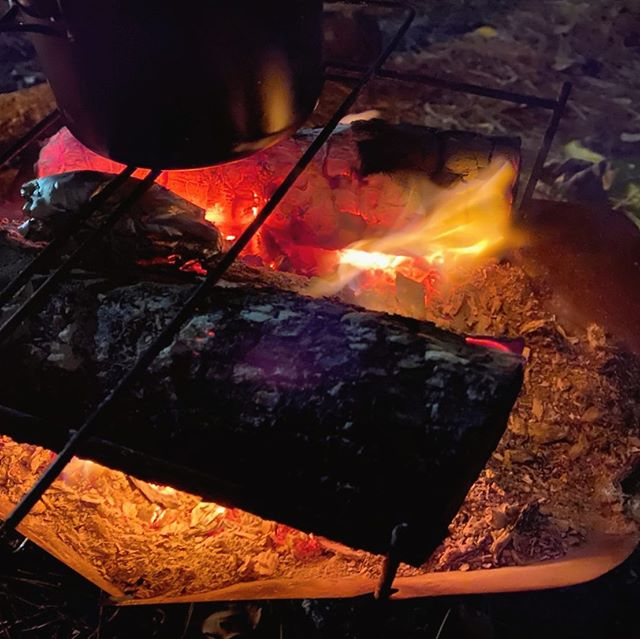fireplace: (1, 1, 582, 538)
